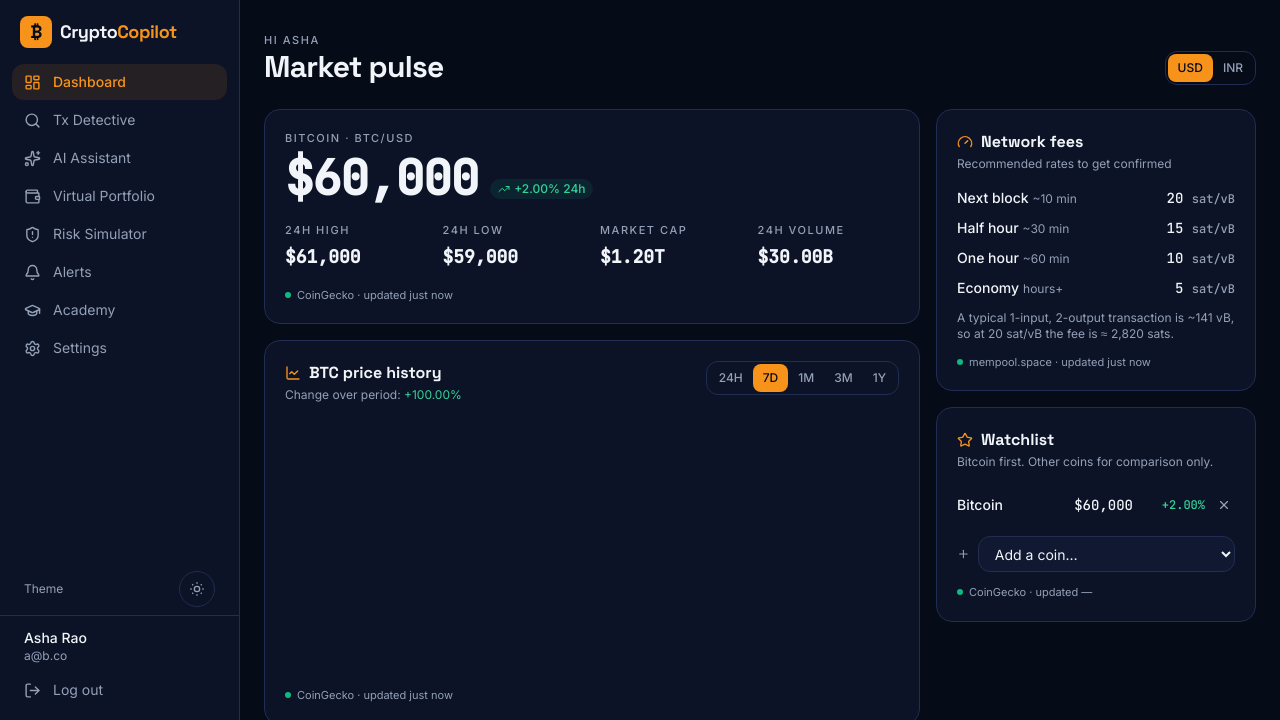
Test case: dashboard for a logged-in user shows price and switches to INR
Expected: the heading "Market pulse" is shown, top-left (264, 48), bottom-right (444, 84)
Expected: the text "$60,000" below "Bitcoin · BTC/" is shown, top-left (285, 146), bottom-right (478, 209)
Click the button "INR" at (1233, 68), box top-left (1213, 54), bottom-right (1253, 82)
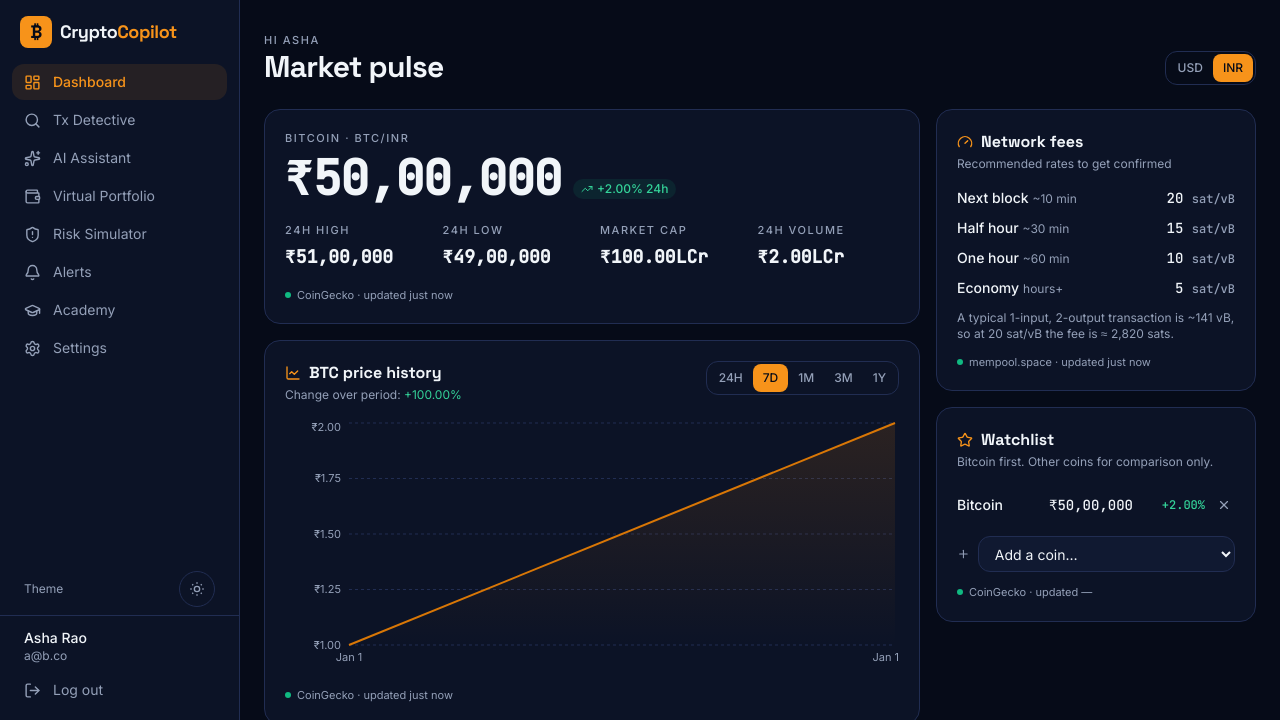
Now the text "₹50,00,000" below "Bitcoin · BTC/" is shown, box top-left (285, 146), bottom-right (561, 209)
